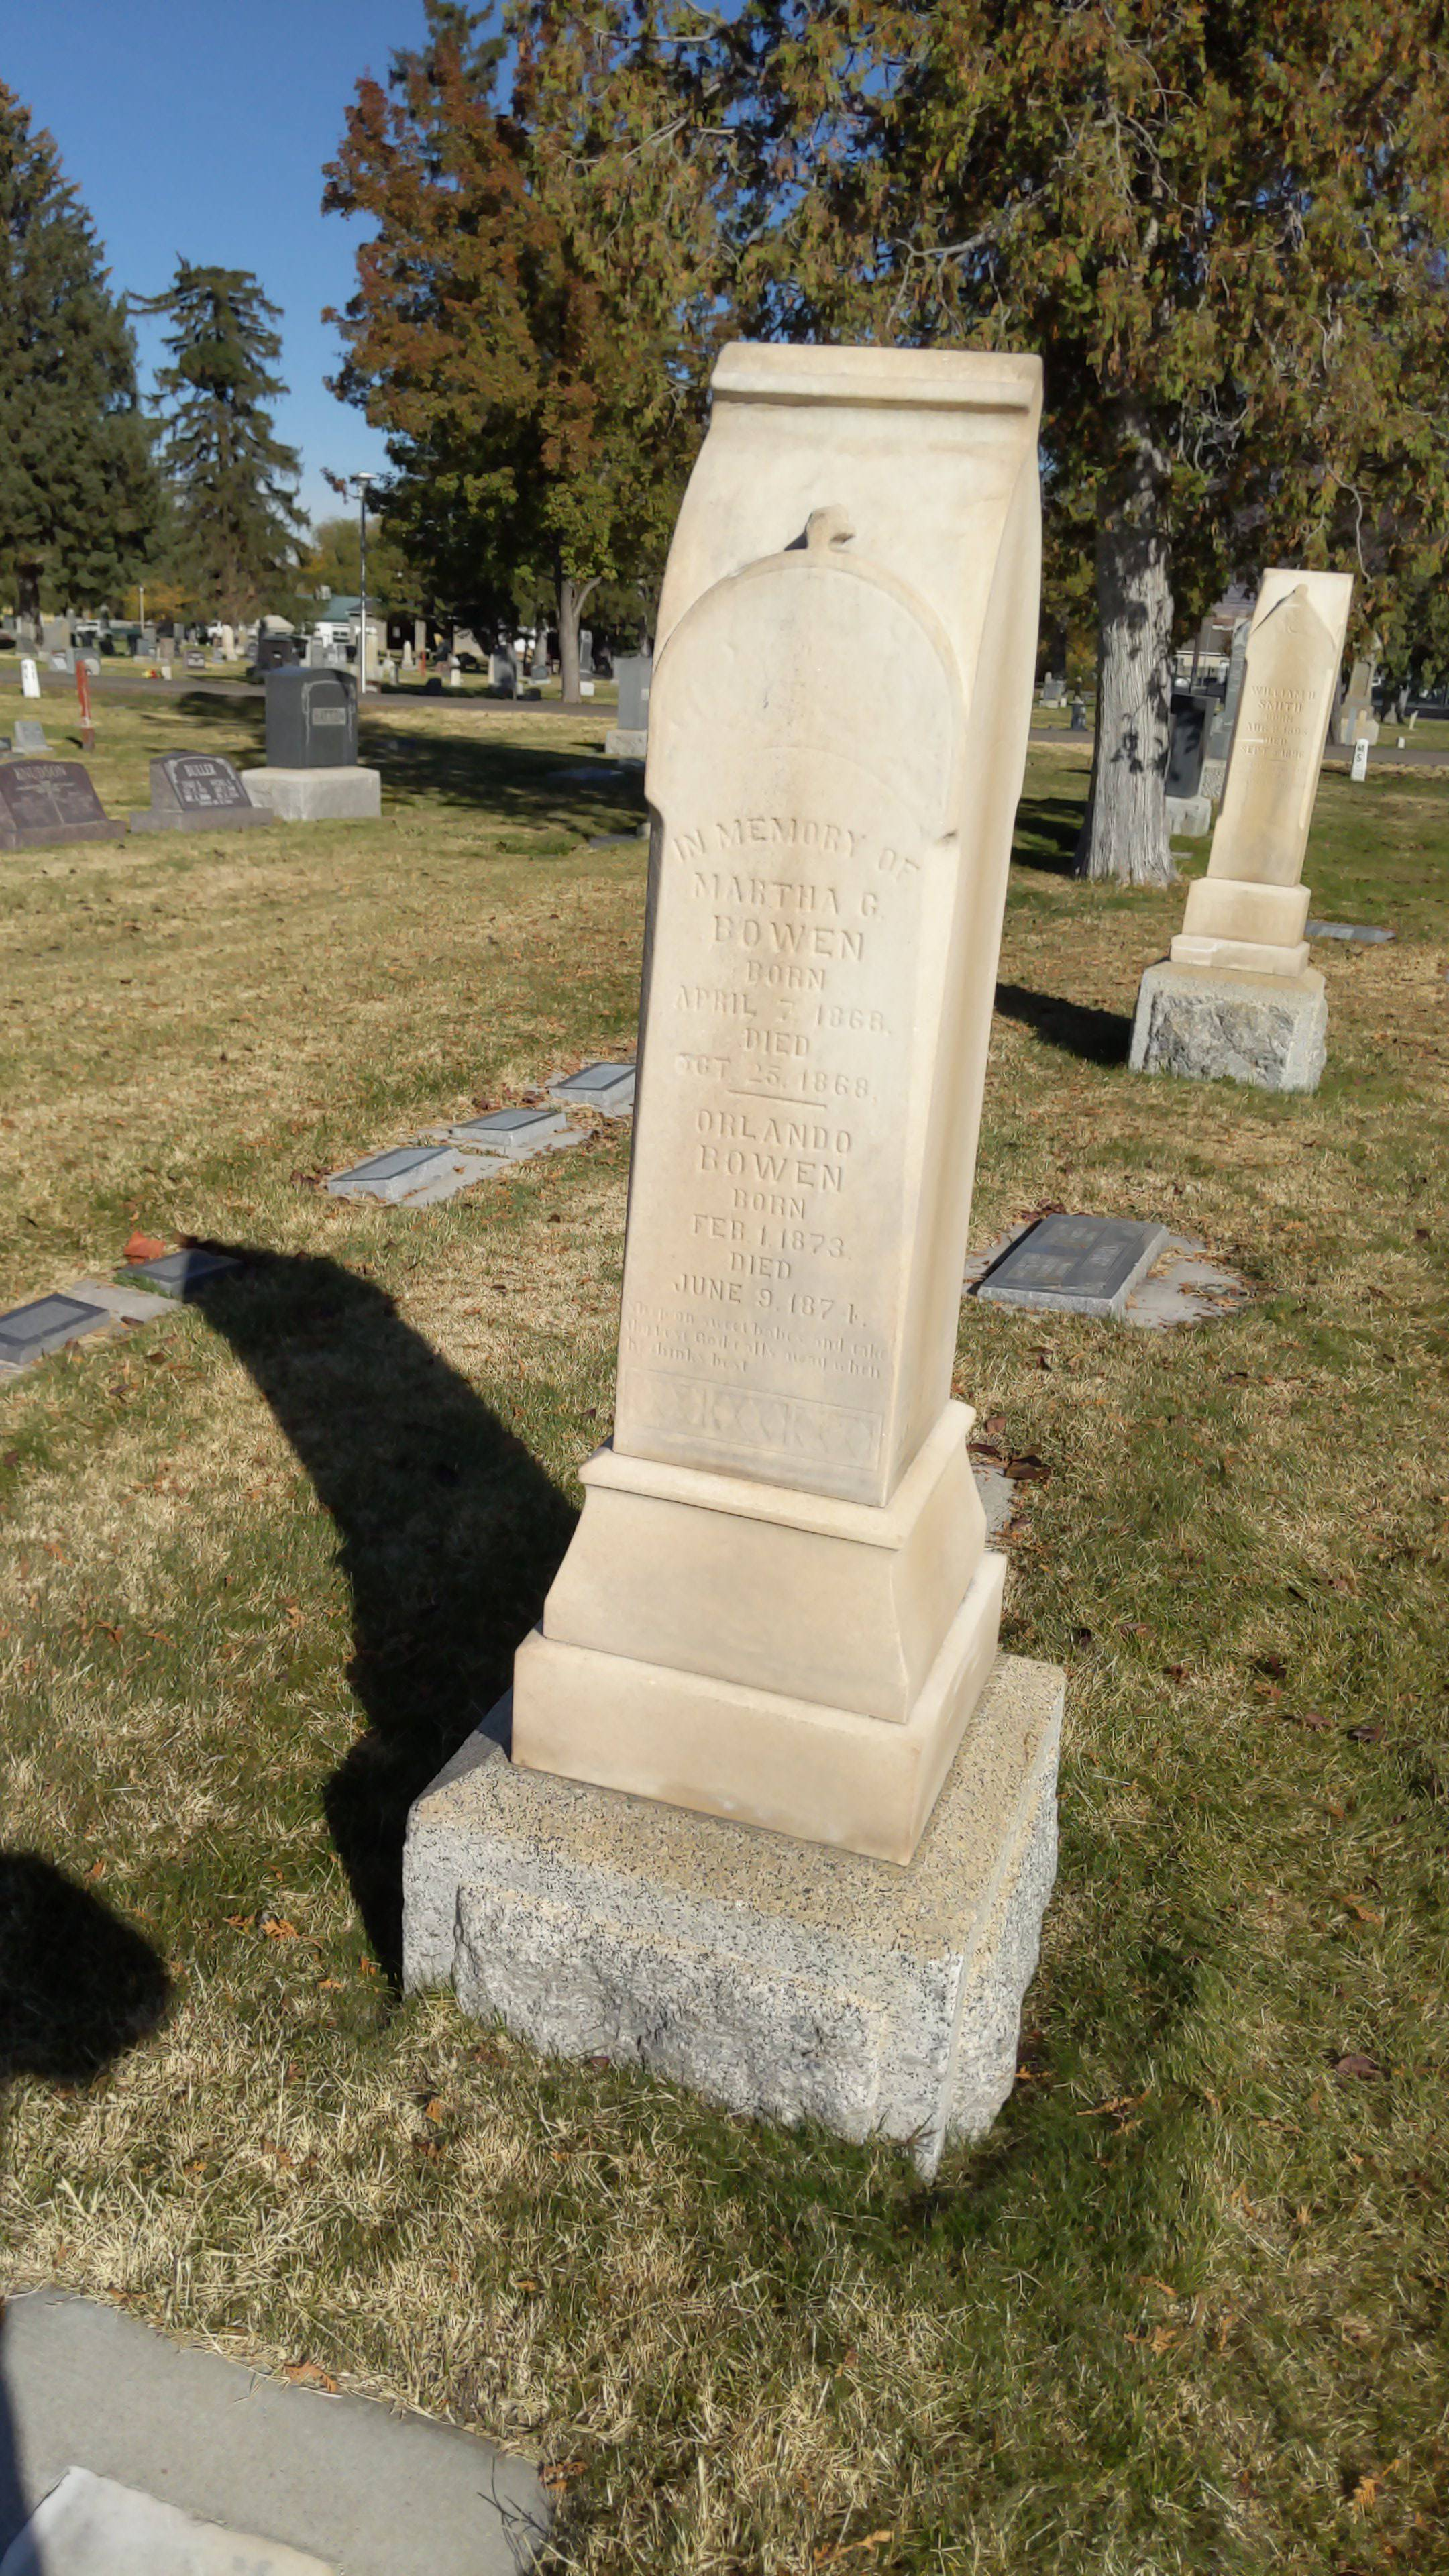obelisk: (510, 338, 1010, 1851)
